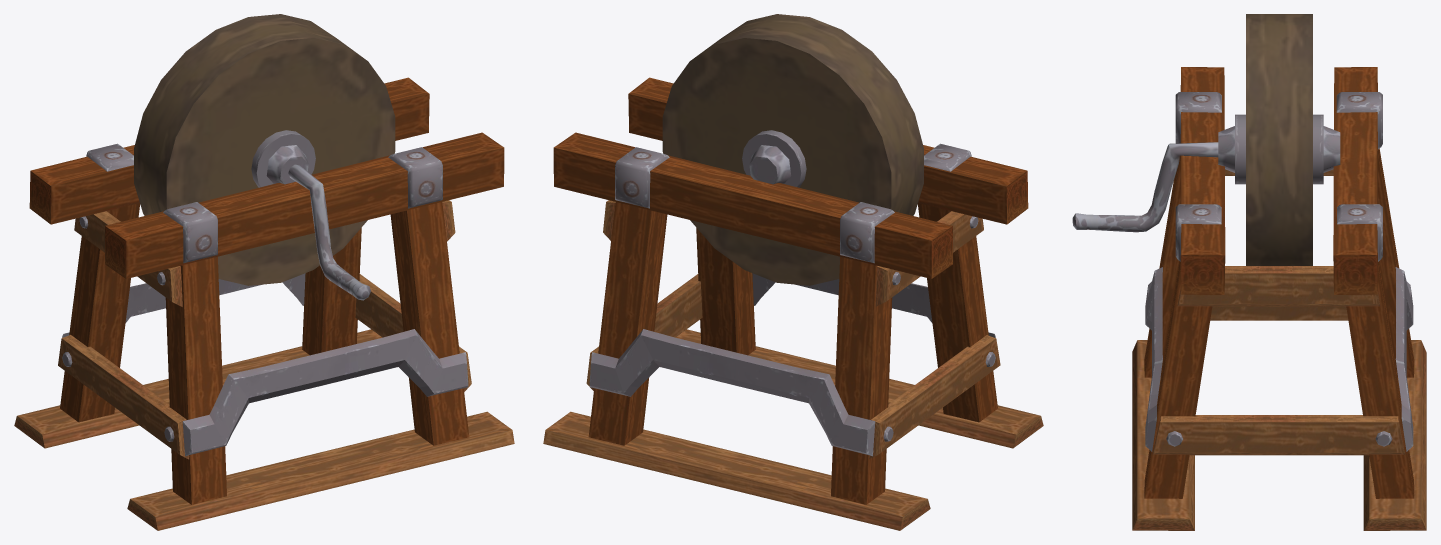
Rendered from Whetstone.gltf.
3 views of the same model, side by side, from view 1: azimuth 30°, elevation 25°; view 2: azimuth 150°, elevation 25°; view 3: azimuth 270°, elevation 25° (orthographic). The views are drawn at different scales.
Visible parts, largest first — view 1: Whetstone; view 2: Whetstone; view 3: Whetstone.
Part boxes in pixels (<box>): Whetstone: <box>14,14,514,530</box>; Whetstone: <box>543,14,1043,530</box>; Whetstone: <box>1072,14,1426,530</box>.
Size of the model in its own units: 1.14 by 1.17 by 0.9018.
Materials: 3 (3 with a texture image).
